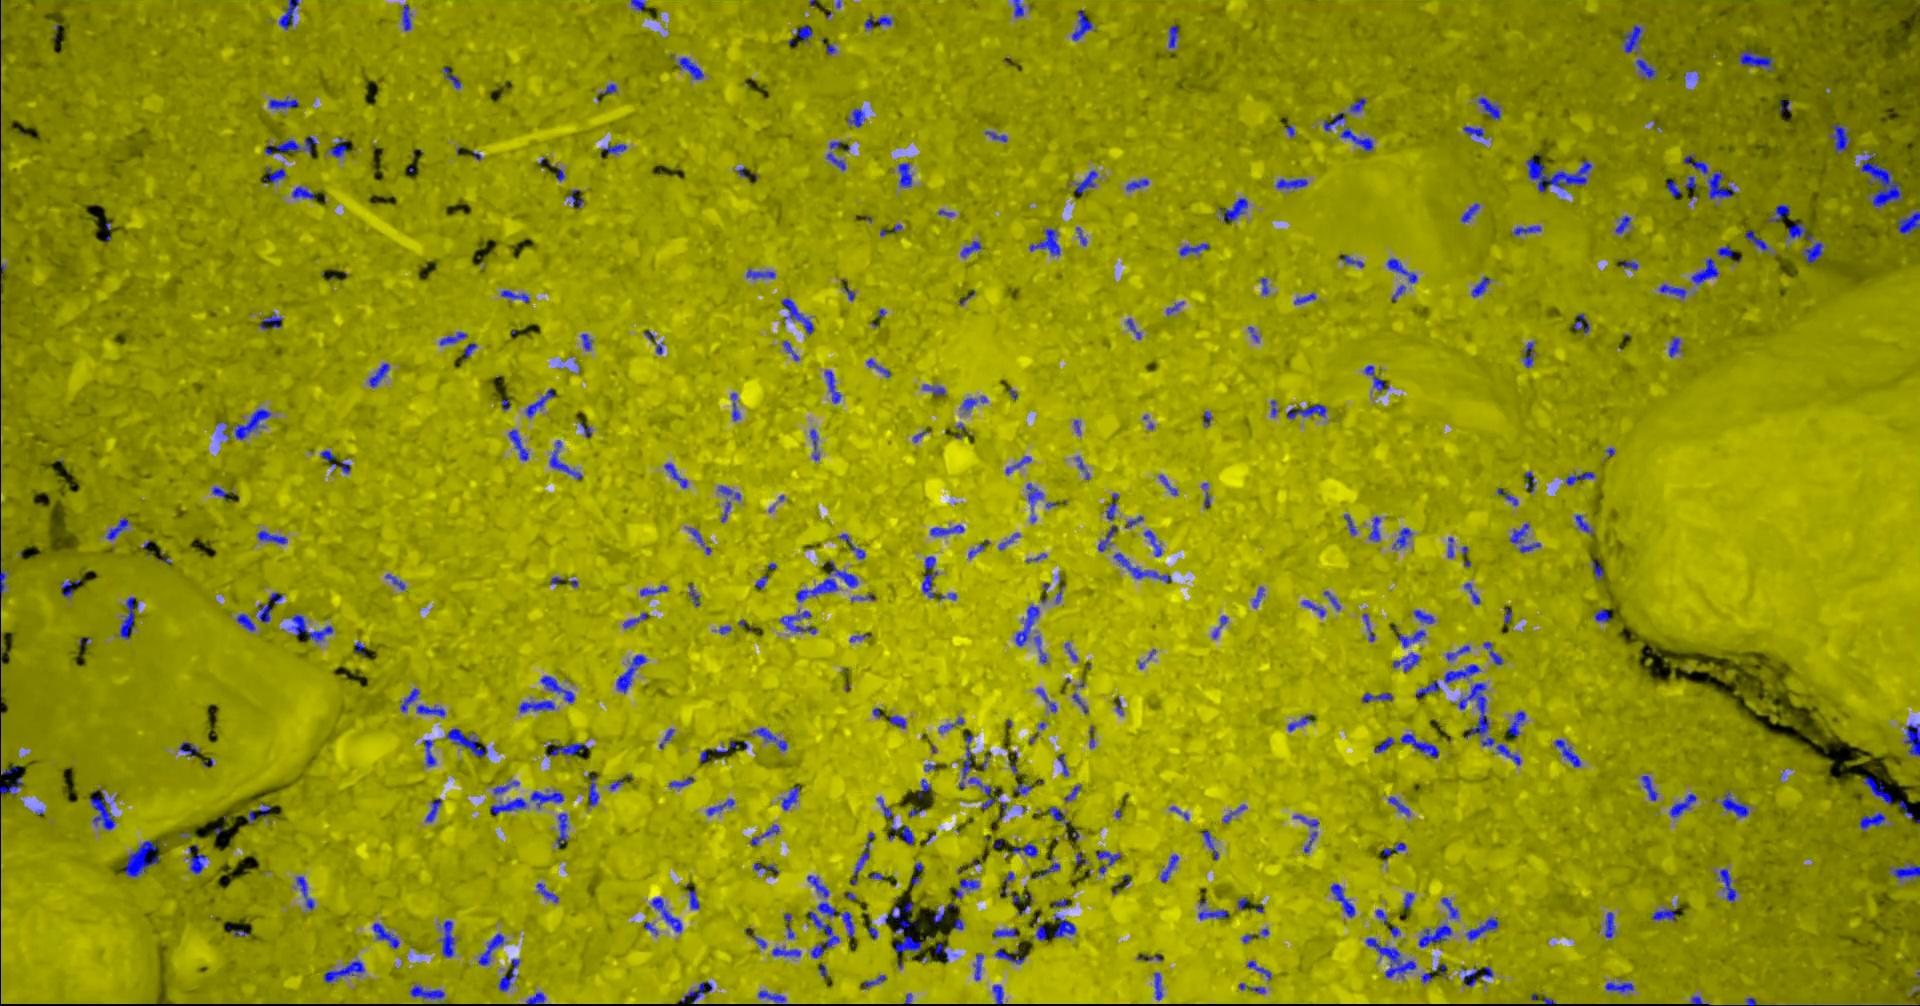ant: (1457, 682, 1520, 765), (957, 730, 1001, 809), (795, 560, 857, 601), (1683, 154, 1735, 199), (1859, 152, 1902, 207), (1526, 158, 1591, 191), (1365, 937, 1415, 977), (876, 796, 914, 843), (1112, 553, 1171, 582), (808, 911, 839, 958), (817, 901, 853, 937), (123, 840, 159, 876), (549, 439, 582, 479), (850, 831, 874, 884), (444, 727, 488, 756), (615, 654, 646, 694), (288, 614, 333, 641), (780, 298, 813, 334), (234, 408, 270, 439), (650, 897, 682, 932), (884, 902, 917, 934), (89, 790, 114, 829), (264, 135, 316, 154), (1015, 605, 1037, 647), (540, 674, 574, 702), (1293, 815, 1318, 852), (1509, 523, 1540, 553), (1399, 733, 1437, 757), (323, 960, 364, 982), (1862, 775, 1892, 804), (1029, 227, 1060, 255), (778, 610, 817, 633), (1385, 257, 1417, 283), (1340, 126, 1373, 151), (752, 727, 786, 751), (1330, 883, 1354, 917), (119, 596, 138, 639), (524, 387, 552, 417), (477, 934, 503, 965), (1418, 923, 1451, 948), (1690, 257, 1718, 285), (1737, 50, 1773, 71), (258, 591, 282, 622), (681, 981, 712, 1005), (1218, 197, 1247, 222), (1465, 917, 1498, 939), (498, 958, 519, 991), (1554, 739, 1580, 767), (371, 922, 399, 948), (1364, 365, 1389, 391), (1443, 664, 1481, 682), (1669, 793, 1697, 817), (1026, 481, 1043, 522), (921, 556, 937, 597), (320, 450, 349, 473), (1070, 9, 1092, 39), (507, 429, 528, 460), (994, 942, 1025, 964), (489, 796, 526, 814), (1717, 868, 1736, 902), (295, 875, 314, 909), (687, 527, 711, 554), (838, 533, 865, 558), (1721, 793, 1749, 815), (1031, 855, 1060, 876), (530, 789, 563, 808), (677, 56, 703, 79), (278, 0, 298, 29), (1829, 123, 1849, 152), (1787, 218, 1812, 241), (750, 824, 778, 845), (439, 920, 455, 956), (825, 141, 844, 170), (1506, 710, 1525, 739), (1896, 210, 1919, 234), (1286, 404, 1326, 418), (1035, 687, 1057, 713), (954, 878, 979, 899), (824, 370, 841, 403), (1622, 25, 1642, 52), (1097, 525, 1117, 551), (409, 984, 444, 1000), (1477, 97, 1500, 119), (1074, 170, 1097, 193), (664, 464, 687, 486), (1053, 915, 1076, 937), (1396, 629, 1425, 647), (188, 843, 206, 873), (1004, 455, 1031, 474), (1392, 652, 1418, 671), (549, 742, 588, 754), (1143, 528, 1161, 556), (706, 798, 734, 815), (1161, 854, 1178, 882), (105, 517, 128, 539), (1482, 641, 1503, 664), (1048, 807, 1069, 829), (1743, 230, 1768, 250), (368, 363, 389, 387), (399, 687, 419, 711), (1903, 723, 1919, 754), (1201, 829, 1218, 859), (1890, 862, 1919, 879), (1858, 812, 1884, 829), (894, 934, 921, 951), (806, 875, 828, 897), (0, 776, 23, 796), (866, 358, 890, 377), (1415, 680, 1439, 699), (1222, 804, 1246, 823), (1246, 960, 1270, 979), (518, 700, 554, 713), (1803, 241, 1823, 263), (536, 882, 557, 902), (1387, 796, 1410, 815), (863, 14, 891, 29), (1658, 283, 1686, 298), (257, 528, 287, 542), (1641, 775, 1657, 800), (555, 813, 568, 846), (1636, 58, 1656, 79), (1496, 486, 1517, 506), (1392, 527, 1411, 549), (1564, 471, 1594, 485), (1463, 582, 1481, 605), (781, 786, 799, 809), (963, 395, 987, 412), (1032, 635, 1046, 663), (491, 780, 519, 794), (268, 95, 298, 108), (1178, 243, 1209, 255), (1470, 276, 1490, 296), (60, 579, 80, 598), (622, 612, 648, 627), (443, 66, 461, 88), (1323, 112, 1345, 130), (1768, 205, 1789, 222), (1159, 474, 1177, 495), (263, 166, 286, 183), (930, 525, 963, 536), (1302, 600, 1324, 616), (1288, 714, 1310, 730), (1441, 895, 1458, 918), (291, 185, 317, 199), (439, 332, 466, 345), (1011, 842, 1037, 856), (500, 290, 530, 302), (415, 704, 444, 716), (1445, 645, 1469, 661), (938, 716, 963, 732), (425, 798, 441, 822), (1096, 850, 1120, 865), (1460, 203, 1479, 222), (960, 240, 982, 257), (1125, 318, 1142, 339), (717, 485, 740, 500), (1211, 615, 1227, 638), (846, 108, 863, 127), (1105, 493, 1117, 520), (1575, 514, 1592, 533), (236, 614, 255, 631), (423, 739, 436, 766), (758, 989, 785, 1002), (897, 163, 910, 187), (329, 137, 345, 158), (998, 532, 1018, 549), (383, 573, 404, 589), (1323, 589, 1340, 610), (1373, 735, 1393, 752), (1275, 178, 1307, 188), (809, 428, 819, 460), (1368, 516, 1380, 541), (258, 314, 281, 328), (1363, 614, 1374, 641), (1382, 842, 1404, 856), (782, 340, 799, 359), (1072, 694, 1088, 713), (1573, 312, 1589, 333), (1361, 692, 1392, 702), (588, 775, 598, 805), (1338, 254, 1363, 267), (861, 974, 885, 987), (1523, 340, 1534, 367), (178, 742, 199, 756), (1197, 909, 1227, 920), (771, 946, 800, 956), (1063, 784, 1079, 801), (1125, 178, 1148, 191), (1651, 908, 1676, 920), (1462, 967, 1477, 986), (1238, 982, 1263, 993), (1512, 225, 1540, 235), (1413, 608, 1434, 622), (973, 953, 983, 981), (1605, 982, 1633, 992), (524, 991, 545, 1005), (795, 25, 811, 42), (401, 4, 411, 30), (1615, 215, 1630, 232), (1604, 911, 1614, 937), (211, 486, 230, 500), (916, 779, 930, 798), (1898, 799, 1912, 818), (984, 130, 1007, 141), (922, 384, 945, 395), (687, 583, 698, 606), (745, 269, 775, 278), (668, 777, 693, 788), (753, 862, 778, 873), (783, 912, 794, 937), (1349, 97, 1365, 112), (569, 189, 583, 207), (730, 392, 739, 420), (639, 586, 667, 594), (1153, 972, 1162, 1000), (1591, 558, 1603, 579), (1252, 586, 1263, 607), (1343, 514, 1356, 533), (1168, 24, 1178, 47), (1293, 293, 1316, 304), (992, 927, 1015, 937), (992, 984, 1003, 1005), (1666, 180, 1680, 197), (888, 715, 905, 728), (1462, 126, 1483, 136), (602, 144, 626, 152), (463, 342, 476, 358), (1669, 337, 1679, 357), (1524, 471, 1534, 492), (688, 889, 698, 909), (1716, 245, 1733, 257), (580, 333, 592, 351), (1685, 175, 1698, 191), (0, 567, 6, 597), (1594, 608, 1609, 621), (1012, 0, 1023, 17), (1035, 923, 1046, 940), (1617, 260, 1637, 269), (1403, 892, 1413, 909), (353, 640, 364, 655), (1015, 782, 1031, 793), (630, 0, 644, 11), (1448, 537, 1453, 558)
